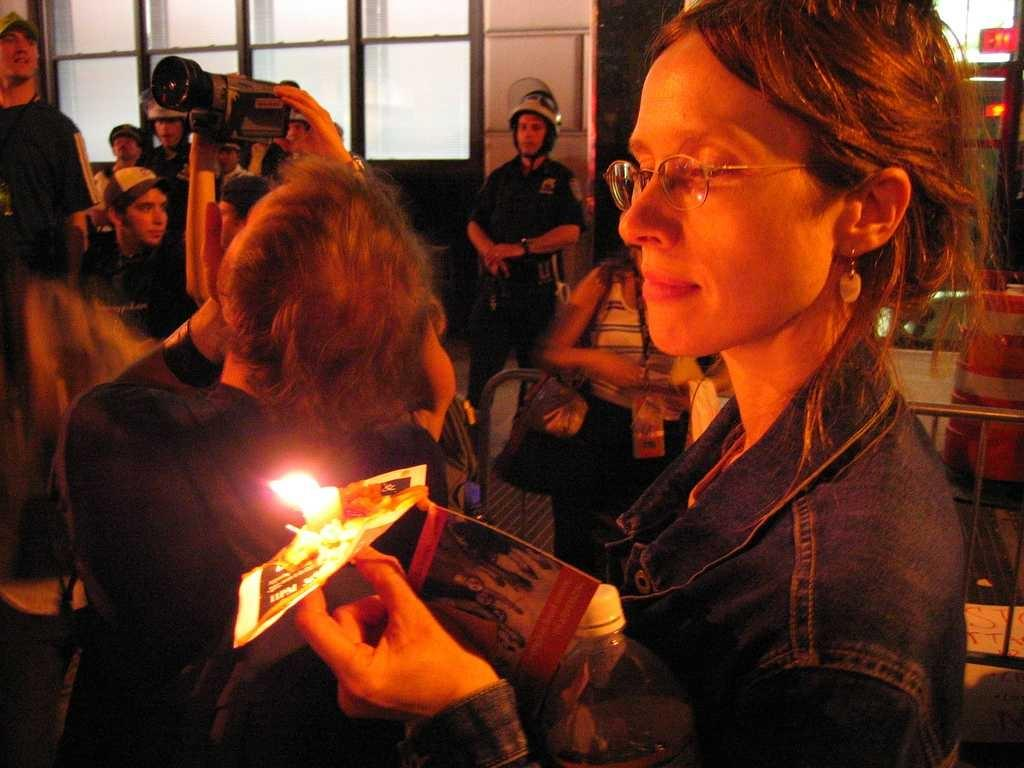fire: (260, 470, 346, 520)
